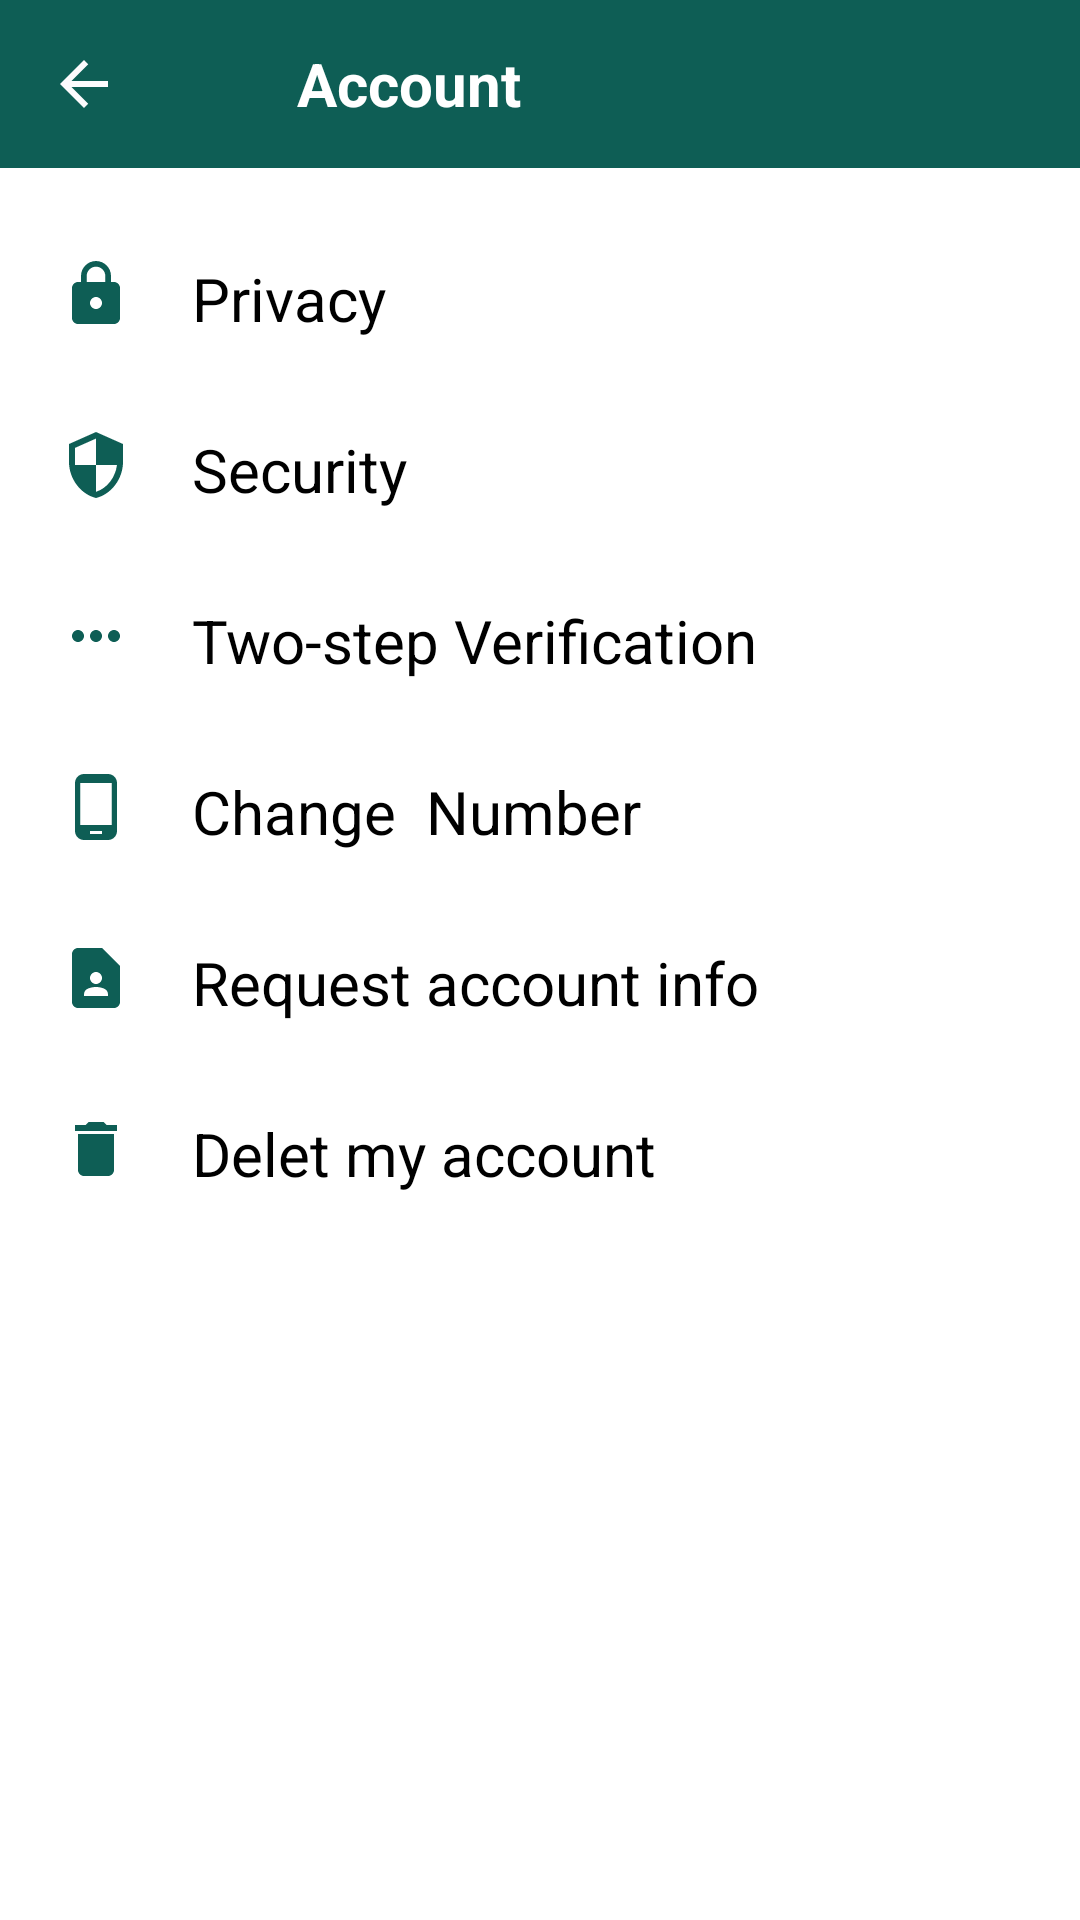

Icons on this 1080 × 1920 Android screen, each with its box as (x1, y1, x2, y2):
backarrow: (60, 60, 108, 108)
guard: (69, 432, 123, 498)
page: (72, 948, 120, 1008)
phone: (75, 774, 117, 840)
